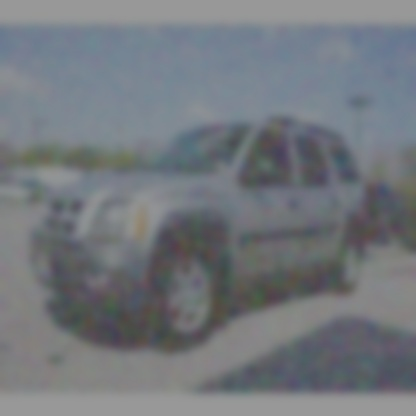Vehicle: (29, 122, 379, 360)
